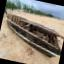fishing boat: (0, 11, 64, 60)
